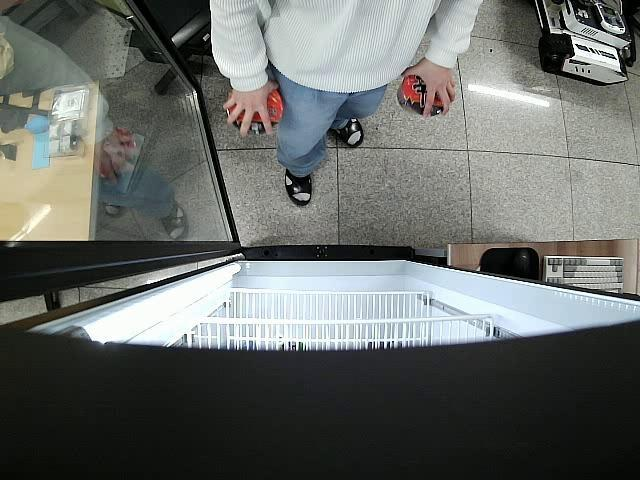01_ShinRamen_L: (228, 87, 284, 135), (393, 70, 448, 115)
